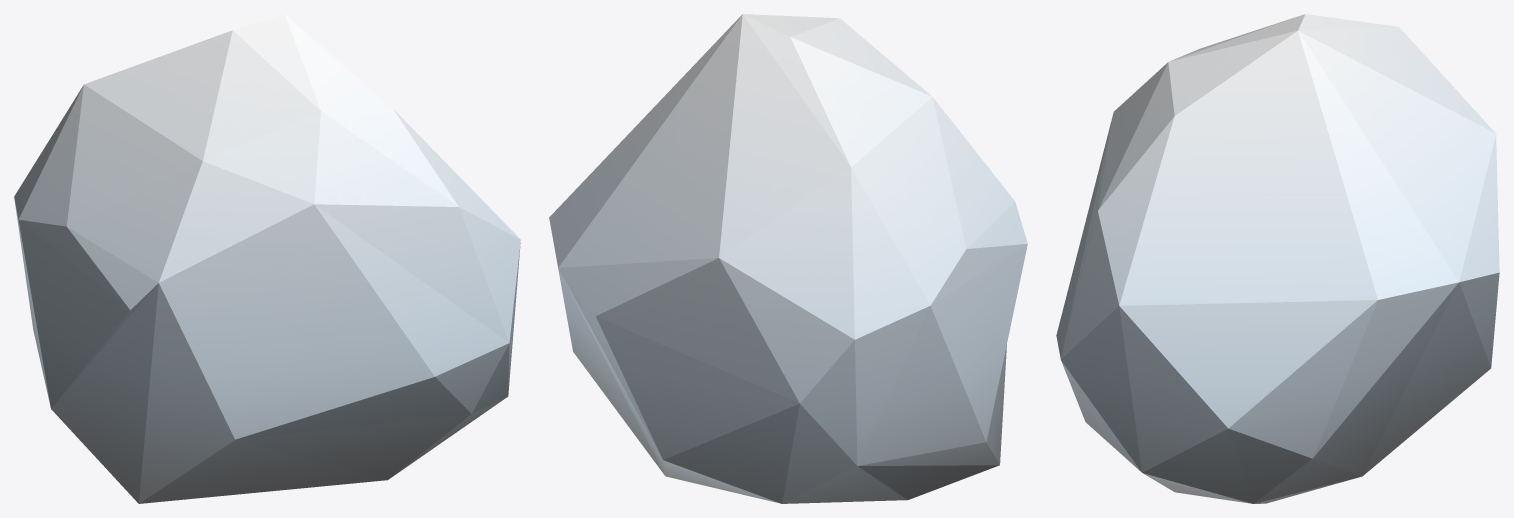
Rendered from Snowy_Stone_005.FBX.
3 views of the same model, side by side, from view 1: azimuth 30°, elevation 25°; view 2: azimuth 150°, elevation 25°; view 3: azimuth 270°, elevation 25° (orthographic). The views are drawn at different scales.
Visible parts, largest first — view 1: Snowy_Stone_005; view 2: Snowy_Stone_005; view 3: Snowy_Stone_005.
Boxes of the visible parts, x1,y1,x2,y2 form: Snowy_Stone_005: [14, 14, 520, 503]; Snowy_Stone_005: [549, 14, 1027, 503]; Snowy_Stone_005: [1056, 14, 1499, 503].
Size of the model in its own units: 89.22 by 89.37 by 80.21.
Materials: 1 (1 with a texture image).
